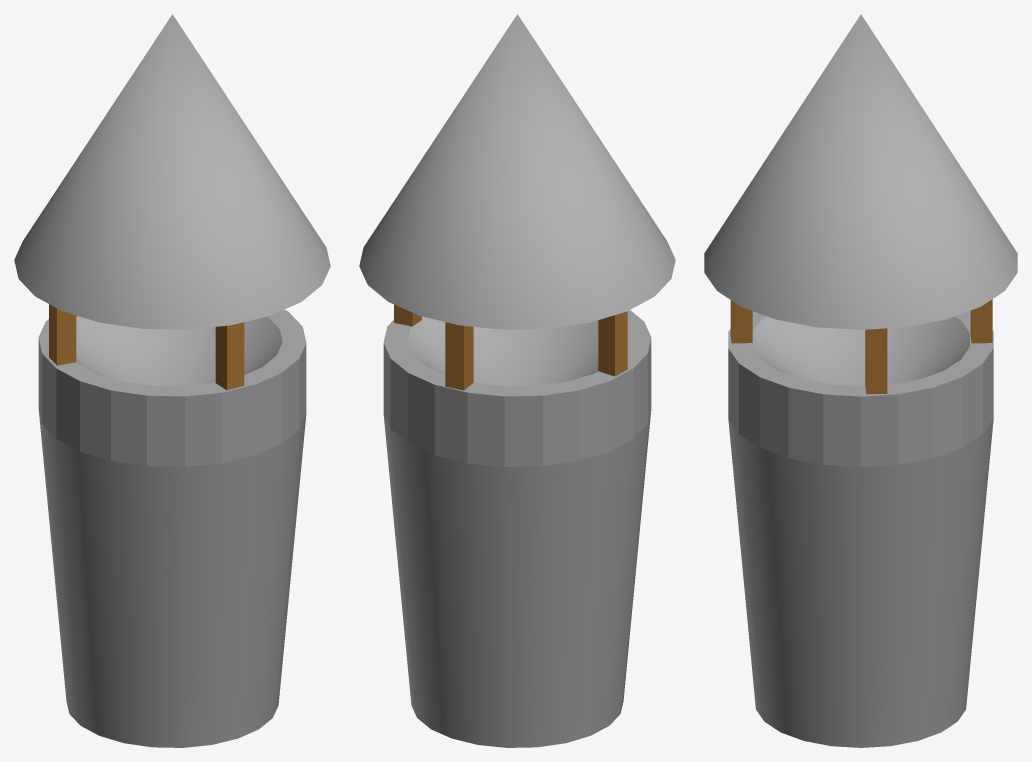
Rendered from archer tower.fbx.
3 renders of one model, left to right at view 1: azimuth 30°, elevation 25°; view 2: azimuth 150°, elevation 25°; view 3: azimuth 270°, elevation 25°, orthographic.
Visible parts, largest first — view 1: pCylinder1, pCone1, pCube19, pCube1; view 2: pCylinder1, pCone1, pCube3, pCube1; view 3: pCylinder1, pCone1, pCube2, pCube3, pCube19.
Boxes of the visible parts, x1=… form: pCylinder1: x1=38, y1=309, x2=306, y2=747; pCone1: x1=14, y1=14, x2=330, y2=329; pCube19: x1=215, y1=322, x2=244, y2=390; pCube1: x1=49, y1=304, x2=76, y2=365; pCylinder1: x1=383, y1=310, x2=651, y2=747; pCone1: x1=359, y1=14, x2=675, y2=329; pCube3: x1=445, y1=322, x2=473, y2=390; pCube1: x1=598, y1=311, x2=627, y2=376; pCylinder1: x1=728, y1=310, x2=993, y2=747; pCone1: x1=704, y1=14, x2=1017, y2=329; pCube2: x1=865, y1=328, x2=887, y2=394; pCube3: x1=970, y1=299, x2=992, y2=343; pCube19: x1=730, y1=300, x2=752, y2=343.
Size of the model in its own units: 5.26 by 12.63 by 5.21.
